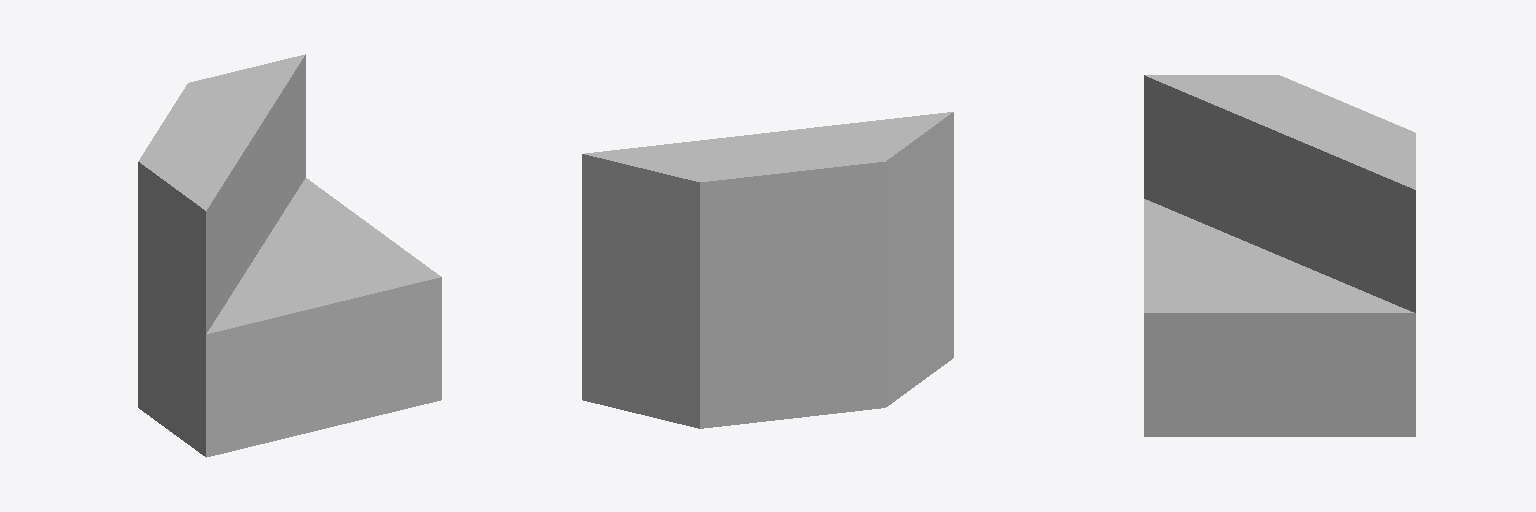
Rendered from diagsteps_73.obj.
3 views of the same model, side by side, from view 1: azimuth 30°, elevation 25°; view 2: azimuth 150°, elevation 25°; view 3: azimuth 270°, elevation 25° (orthographic).
Size of the model in its own units: 1 by 1 by 1.